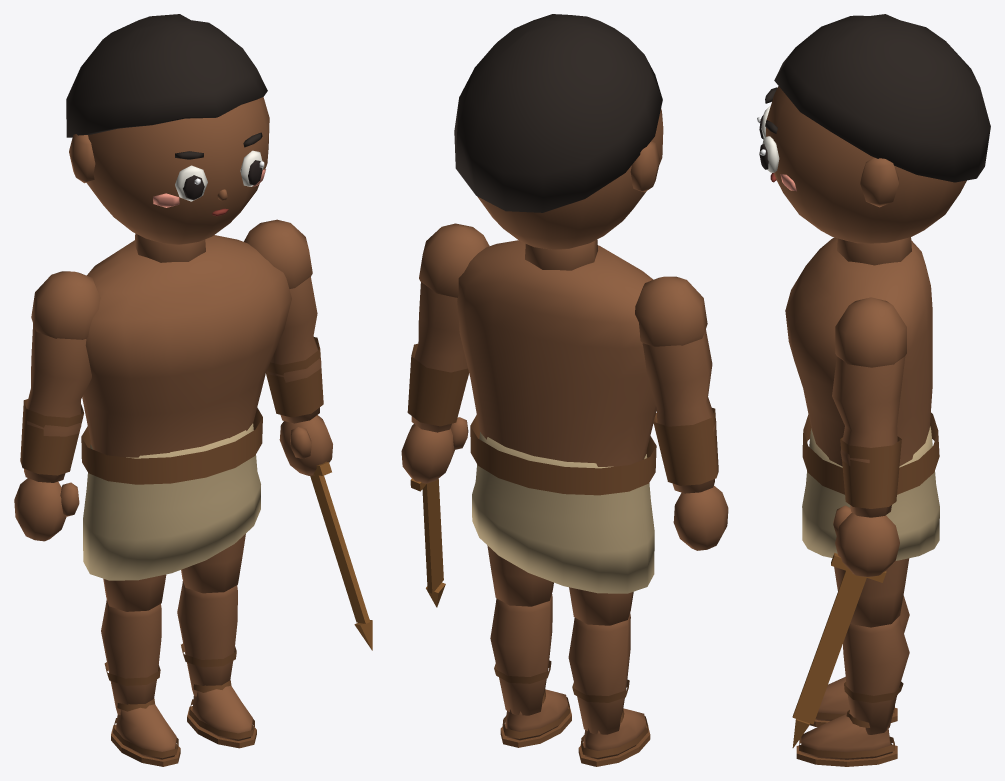
The model's file is gladiatorschueler.glb.
3 renders of one model, left to right at view 1: azimuth 30°, elevation 25°; view 2: azimuth 150°, elevation 25°; view 3: azimuth 270°, elevation 25°, orthographic. The views are drawn at different scales.
Visible parts, largest first — view 1: rumpf, kopf, haare, huefte, armL, armR, knieL, knieR, itemR, beinR, beinL, augeL (+1 smaller); view 2: rumpf, haare, huefte, armL, armR, kopf, knieR, knieL, beinR, itemR, beinL; view 3: haare, rumpf, kopf, armR, knieR, huefte, itemR, beinR, knieL, augeR.
Part boxes in pixels (x1=…): rumpf: x1=81, y1=235, x2=291, y2=484; kopf: x1=69, y1=97, x2=269, y2=262; haare: x1=66, y1=14, x2=267, y2=137; huefte: x1=83, y1=423, x2=260, y2=580; armL: x1=14, y1=271, x2=100, y2=541; armR: x1=244, y1=219, x2=332, y2=475; knieL: x1=101, y1=599, x2=180, y2=766; knieR: x1=177, y1=581, x2=256, y2=748; itemR: x1=310, y1=461, x2=372, y2=650; beinR: x1=181, y1=534, x2=245, y2=593; beinL: x1=103, y1=574, x2=166, y2=611; augeL: x1=175, y1=165, x2=207, y2=201; rumpf: x1=457, y1=240, x2=656, y2=495; haare: x1=454, y1=14, x2=662, y2=212; huefte: x1=472, y1=432, x2=654, y2=593; armL: x1=635, y1=276, x2=728, y2=550; armR: x1=401, y1=223, x2=489, y2=483; kopf: x1=477, y1=108, x2=663, y2=270; knieR: x1=490, y1=594, x2=571, y2=747; knieL: x1=568, y1=613, x2=650, y2=766; beinR: x1=487, y1=545, x2=553, y2=606; itemR: x1=410, y1=478, x2=445, y2=607; beinL: x1=569, y1=587, x2=633, y2=625; haare: x1=774, y1=14, x2=990, y2=182; rumpf: x1=785, y1=237, x2=939, y2=494; kopf: x1=766, y1=86, x2=966, y2=265; armR: x1=832, y1=297, x2=906, y2=576; knieR: x1=796, y1=616, x2=909, y2=766; huefte: x1=802, y1=426, x2=939, y2=560; itemR: x1=792, y1=553, x2=886, y2=747; beinR: x1=834, y1=558, x2=909, y2=627; knieL: x1=810, y1=595, x2=909, y2=726; augeR: x1=759, y1=136, x2=779, y2=172.
Bounding box in the file's own units: 1.09 × 2.3 × 0.6822.
